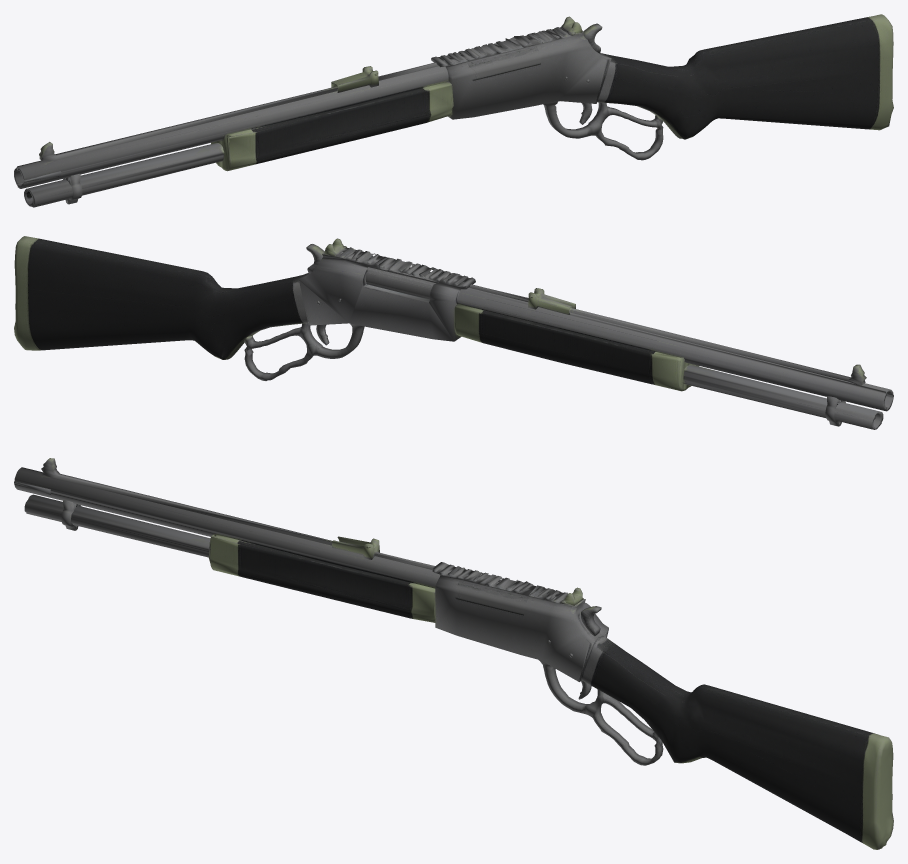
Rendered from dmr_lancer.glb.
3 views of the same model, one above another, from view 1: azimuth 30°, elevation 25°; view 2: azimuth 150°, elevation 25°; view 3: azimuth 330°, elevation 25° (orthographic).
Size of the model in its own units: 0.957 by 0.1963 by 0.0386.
1 material, 1 textured.
